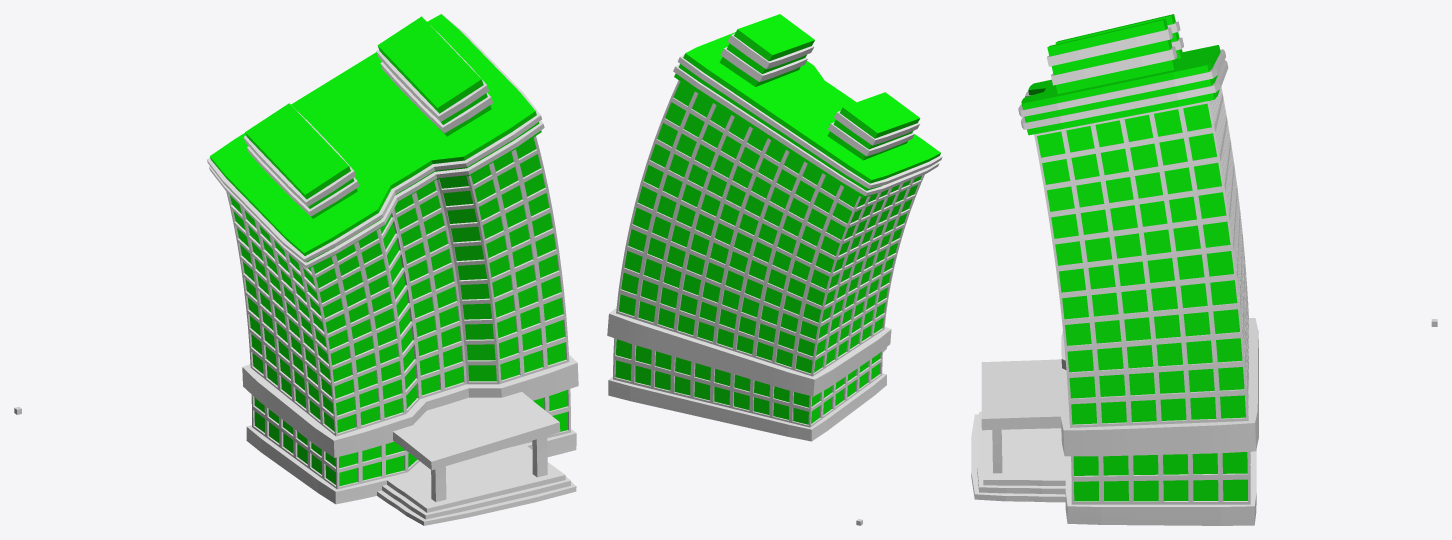
Rendered from Building.gltf.
3 renders of one model, left to right at view 1: azimuth 30°, elevation 25°; view 2: azimuth 150°, elevation 25°; view 3: azimuth 270°, elevation 25°, orthographic. The views are drawn at different scales.
Visible parts, largest first — view 1: Box023; view 2: Box023; view 3: Box023.
Boxes of the visible parts, x1,y1,x2,y2 form: Box023: (207, 14, 578, 525); Box023: (607, 14, 942, 441); Box023: (971, 14, 1258, 525).
Size of the model in its own units: 158 by 166 by 156.
